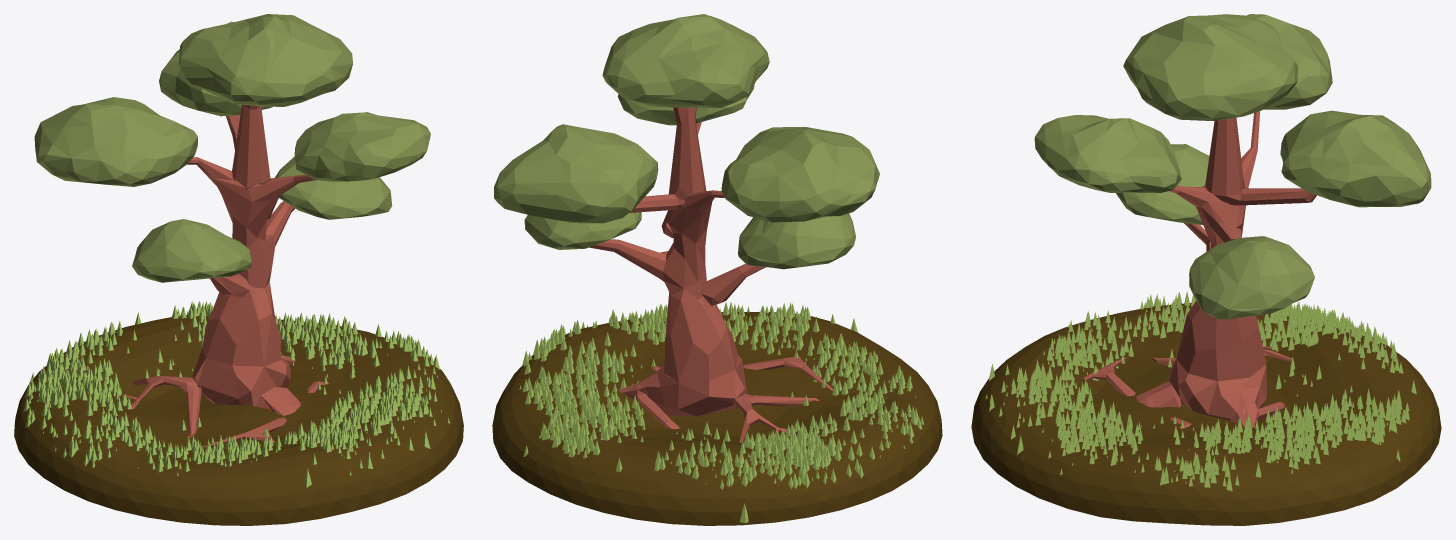
File: norm.glb
3 renders of one model, left to right at view 1: azimuth 30°, elevation 25°; view 2: azimuth 150°, elevation 25°; view 3: azimuth 270°, elevation 25°, orthographic. The views are drawn at different scales.
Visible parts, largest first — view 1: 棱角球, Tree, Icosphere.002, Icosphere, Icosphere.003, Icosphere.001, Icosphere.004, Icosphere.005; view 2: 棱角球, Tree, Icosphere.002, Icosphere, Icosphere.005, Icosphere.001, Icosphere.004, Icosphere.003; view 3: 棱角球, Tree, Icosphere.002, Icosphere.005, Icosphere.003, Icosphere.004, Icosphere, Icosphere.001.
Boxes of the visible parts, box(x1,y1,x2,y2) form: 棱角球: box(14, 315, 463, 525); Tree: box(119, 104, 329, 447); Icosphere.002: box(178, 14, 352, 106); Icosphere: box(34, 97, 197, 186); Icosphere.003: box(294, 112, 430, 181); Icosphere.001: box(132, 219, 252, 282); Icosphere.004: box(275, 157, 392, 219); Icosphere.005: box(159, 21, 272, 116); 棱角球: box(492, 312, 942, 525); Tree: box(589, 107, 833, 442); Icosphere.002: box(602, 14, 769, 107); Icosphere: box(721, 127, 879, 222); Icosphere.005: box(494, 124, 658, 223); Icosphere.001: box(738, 213, 855, 269); Icosphere.004: box(524, 212, 641, 249); Icosphere.003: box(618, 85, 754, 125); 棱角球: box(971, 303, 1441, 525); Tree: box(1083, 111, 1316, 428); Icosphere.002: box(1123, 14, 1297, 120); Icosphere.005: box(1280, 110, 1431, 207); Icosphere.003: box(1034, 115, 1181, 192); Icosphere.004: box(1189, 236, 1314, 319); Icosphere: box(1247, 14, 1332, 109); Icosphere.001: box(1116, 144, 1209, 225).
Bounding box in the file's own units: 6.32 × 6.3 × 6.32.
